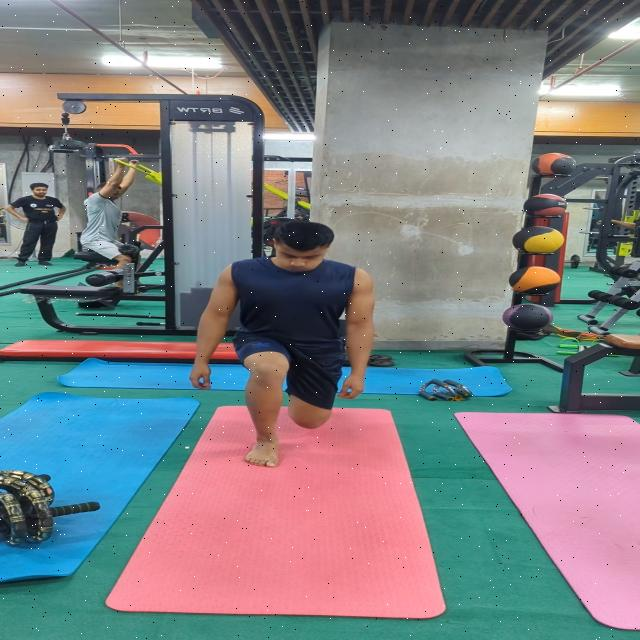Normal_Lunges: (184, 211, 398, 471)
